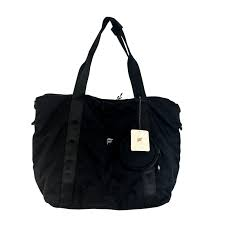bag: (27, 19, 184, 209)
